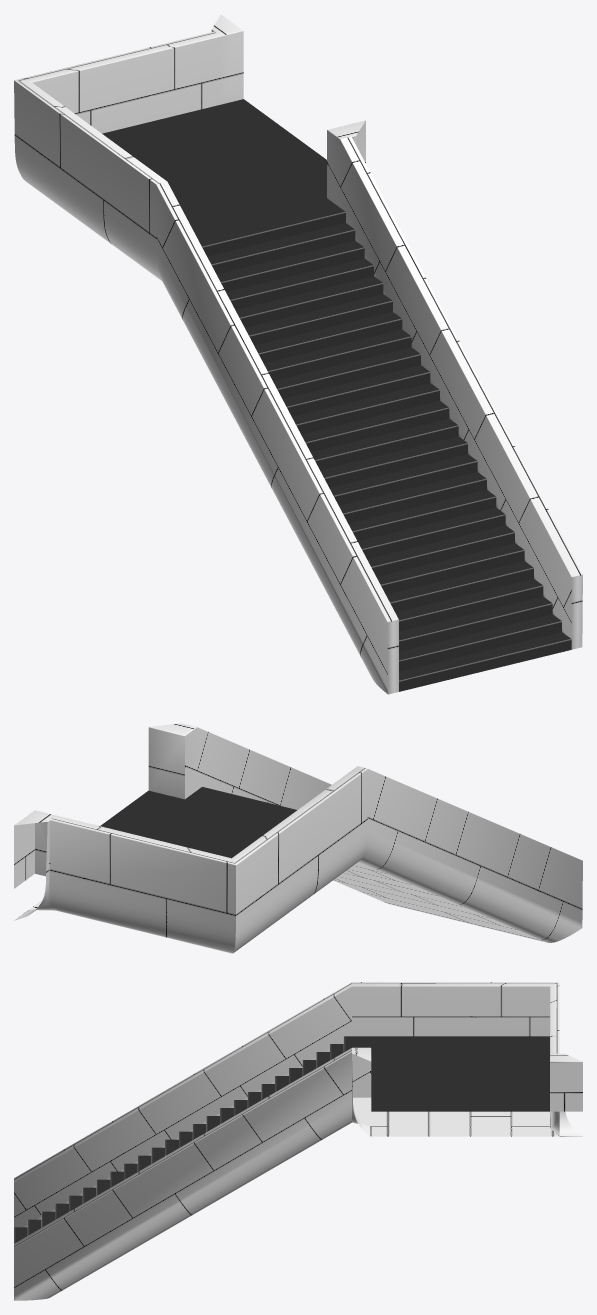
The model's file is Stairs03_265x900x350cm.FBX.
3 renders of one model, top to bottom at view 1: azimuth 30°, elevation 25°; view 2: azimuth 150°, elevation 25°; view 3: azimuth 270°, elevation 25°, orthographic. The views are drawn at different scales.
Visible parts, largest first — view 1: Stairs, Parapet; view 2: Parapet, Stairs; view 3: Parapet, Stairs.
Part boxes in pixels (x1,y1,x2,y2): Stairs: [102, 99, 571, 691]; Parapet: [14, 14, 582, 694]; Parapet: [14, 723, 582, 953]; Stairs: [100, 786, 296, 858]; Parapet: [14, 982, 582, 1300]; Stairs: [14, 1036, 549, 1243].
Bounding box in the file's own units: 343 × 500 × 1035.
